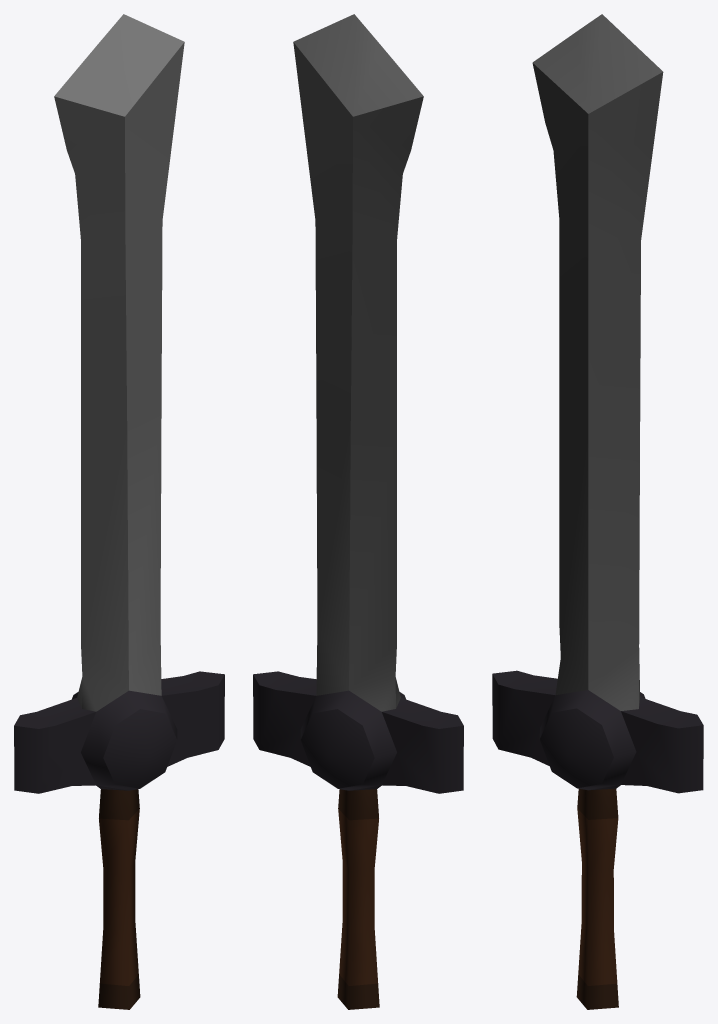
Rendered from MeleeWarriorSword.fbx.
The picture shows the model from 3 angles, left to right: view 1: azimuth 30°, elevation 25°; view 2: azimuth 150°, elevation 25°; view 3: azimuth 330°, elevation 25°; orthographic projection.
Visible parts, largest first — view 1: Sword; view 2: Sword; view 3: Sword.
Part boxes in pixels (left/top/right/bottom): Sword: left=14, top=14, right=224, bottom=1009; Sword: left=253, top=14, right=463, bottom=1009; Sword: left=492, top=14, right=703, bottom=1009.
Size of the model in its own units: 29.12 by 130 by 14.51.
